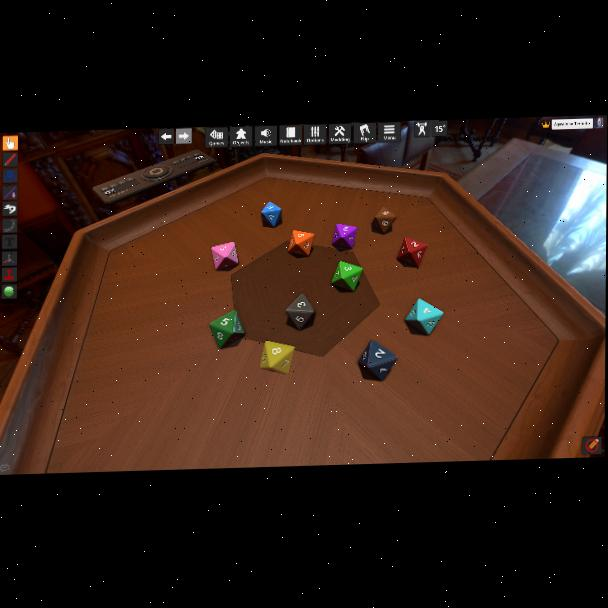d8: (358, 340, 395, 382), (405, 298, 442, 335), (210, 310, 245, 349), (260, 340, 294, 375), (285, 294, 316, 330), (331, 261, 360, 293), (396, 237, 424, 269), (210, 241, 238, 271), (287, 229, 313, 257), (332, 223, 356, 251), (261, 202, 282, 228), (373, 209, 394, 234)
